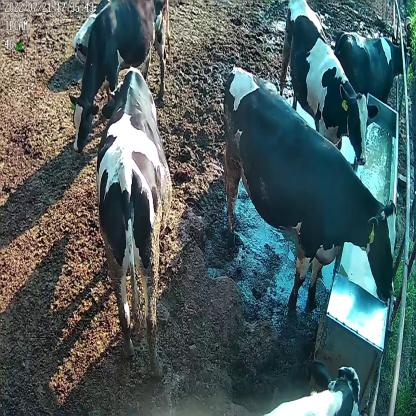cow: (223, 61, 395, 316), (96, 63, 177, 382), (280, 2, 380, 166), (67, 0, 172, 150), (334, 28, 413, 101)
